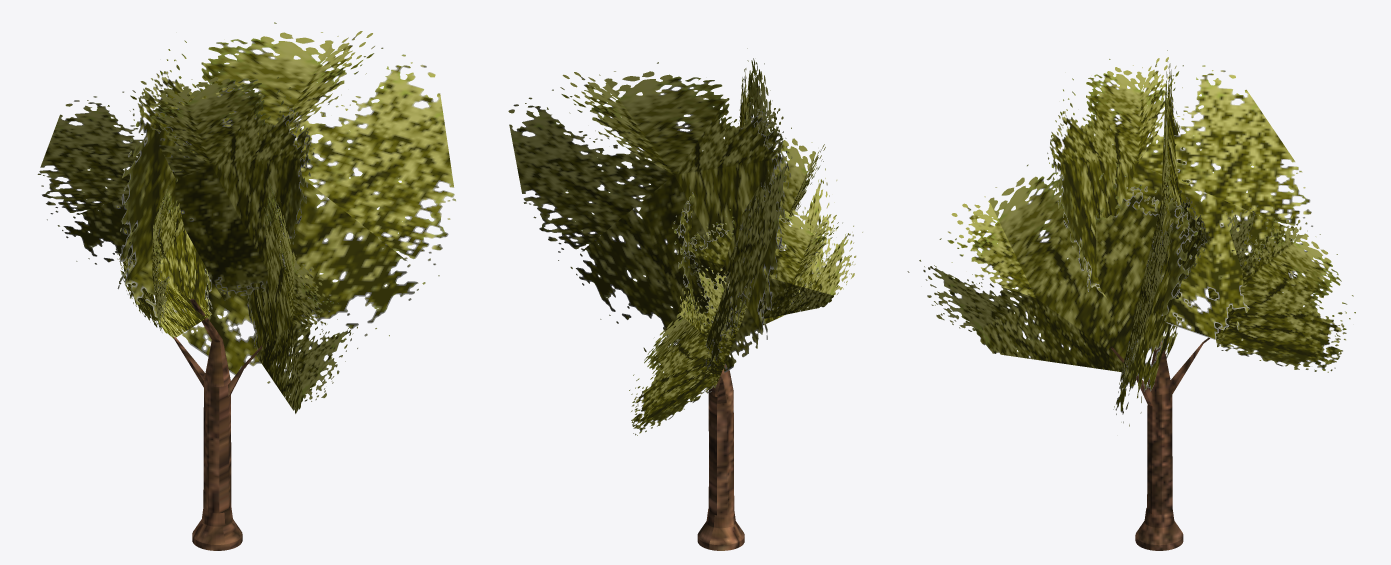
The model's file is Tree_Desert 2.fbx.
3 views of the same model, side by side, from view 1: azimuth 30°, elevation 25°; view 2: azimuth 150°, elevation 25°; view 3: azimuth 270°, elevation 25° (orthographic). The views are drawn at different scales.
Visible parts, largest first — view 1: Cylinder.006; view 2: Cylinder.006; view 3: Cylinder.006.
Part boxes in pixels (x1,y1,x2,y2): Cylinder.006: (37, 22, 455, 550); Cylinder.006: (508, 48, 862, 550); Cylinder.006: (907, 50, 1355, 550).
Bounding box in the file's own units: 1137 × 1702 × 1462.
